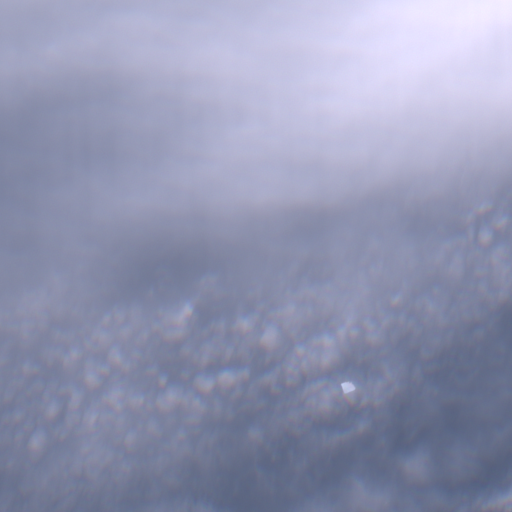Iceberg: (341, 382, 354, 392)
